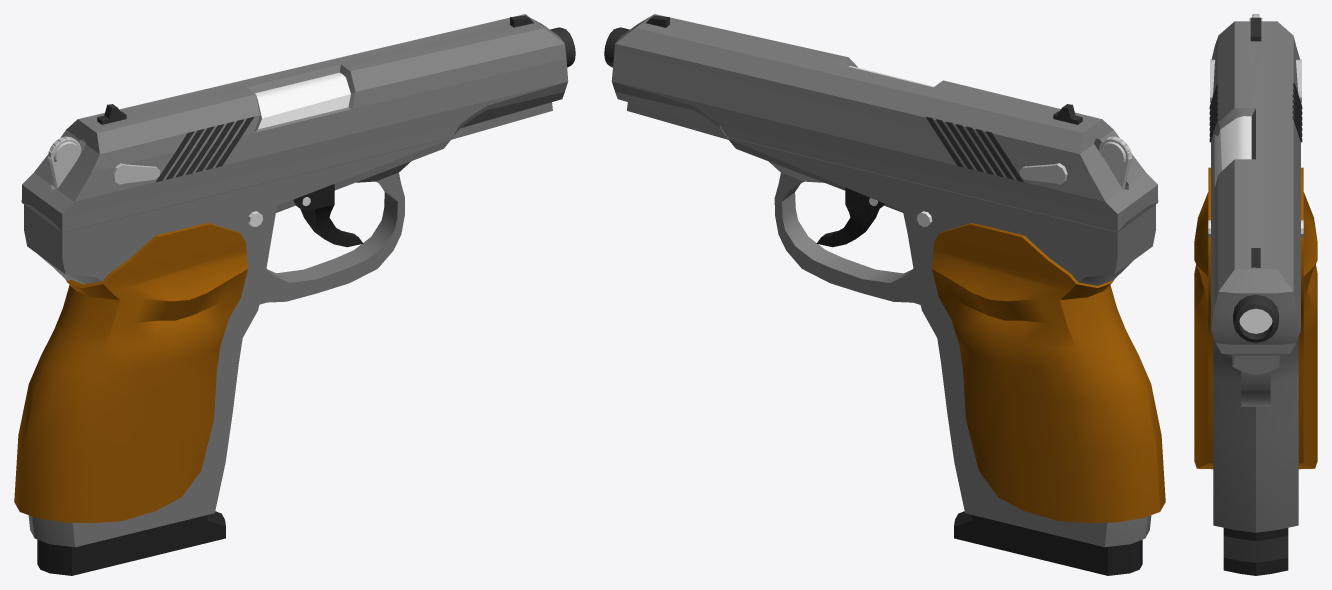
Rendered from Makarov_Mesh.fbx.
3 views of the same model, side by side, from view 1: azimuth 30°, elevation 25°; view 2: azimuth 150°, elevation 25°; view 3: azimuth 270°, elevation 25° (orthographic). The views are drawn at different scales.
Parts seen in each view (by area): view 1: Makarov; view 2: Makarov; view 3: Makarov.
Part boxes in pixels (x1,y1,x2,y2): Makarov: [14, 14, 575, 575]; Makarov: [604, 14, 1165, 575]; Makarov: [1194, 14, 1317, 575].
Size of the model in its own units: 0.306 by 0.2382 by 0.0536.
